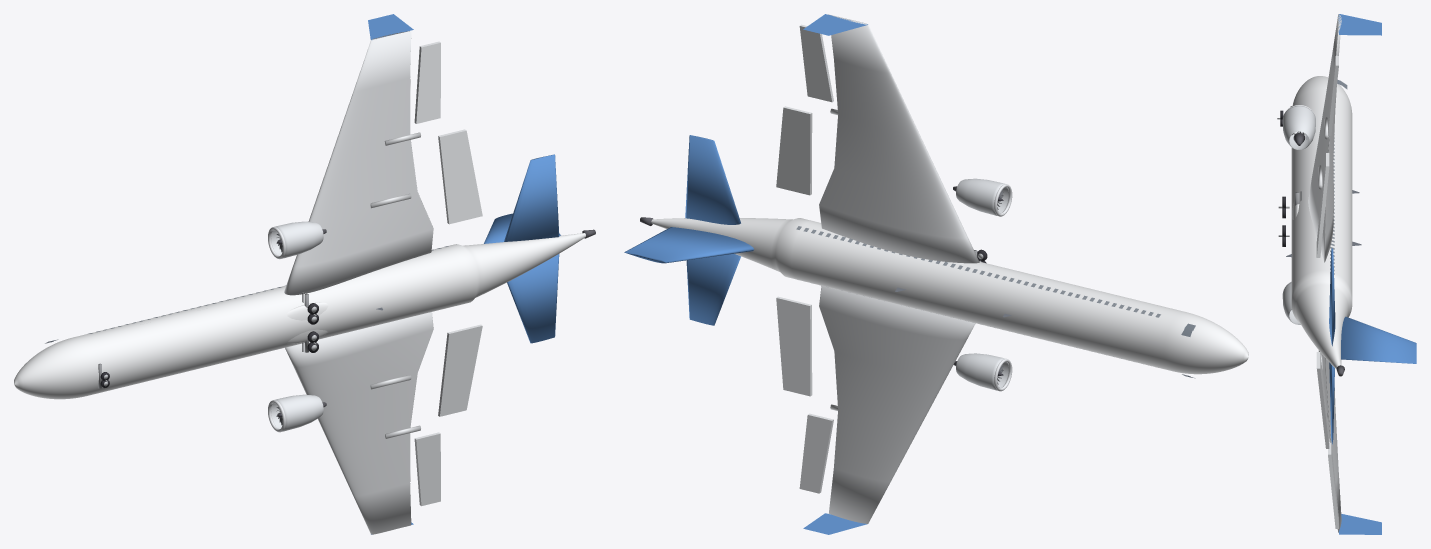
The picture shows the model from 3 angles, left to right: view 1: azimuth 30°, elevation 25°; view 2: azimuth 150°, elevation 25°; view 3: azimuth 270°, elevation 25°; orthographic projection.
Visible parts, largest first — view 1: Fuselage, Wing_R, Wing_L, HStab_R, HStab_L, Flap_R, Flap_L, Aileron_R, Aileron_L, Nacelle_1_0, Nacelle_-1_0, Sharklet_R; view 2: Fuselage, Wing_L, Wing_R, HStab_R, Flap_L, Fin, Flap_R, HStab_L, Aileron_L, Aileron_R, Nacelle_1_0, Nacelle_-1_0 (+3 smaller); view 3: Fuselage, Wing_R, Fin, Nacelle_1_0, Wing_L, Sharklet_R, Sharklet_L, Flap_R, Flap_L, HStab_R, Aileron_L, Aileron_R (+2 smaller).
Part boxes in pixels (x1,y1,x2,y2): Fuselage: (14, 233, 585, 399); Wing_R: (284, 31, 433, 295); Wing_L: (285, 312, 433, 534); HStab_R: (504, 154, 559, 241); HStab_L: (507, 254, 559, 343); Flap_R: (438, 129, 482, 224); Flap_L: (438, 324, 482, 416); Aileron_R: (414, 41, 440, 123); Aileron_L: (414, 432, 440, 506); Nacelle_1_0: (271, 221, 323, 258); Nacelle_-1_0: (271, 394, 323, 431); Sharklet_R: (368, 14, 413, 39); Fuselage: (651, 218, 1248, 374); Wing_L: (819, 285, 975, 523); Wing_R: (819, 14, 979, 263); HStab_R: (685, 135, 740, 224); Flap_L: (776, 296, 812, 396); Fin: (624, 227, 754, 263); Flap_R: (776, 106, 812, 195); HStab_L: (686, 254, 740, 325); Aileron_L: (799, 413, 833, 493); Aileron_R: (799, 24, 833, 102); Nacelle_1_0: (956, 178, 1008, 215); Nacelle_-1_0: (956, 353, 1008, 390); Fuselage: (1291, 76, 1352, 368); Wing_R: (1308, 14, 1341, 262); Fin: (1341, 316, 1416, 363); Nacelle_1_0: (1282, 105, 1315, 149); Wing_L: (1322, 354, 1341, 532); Sharklet_R: (1338, 14, 1381, 35); Sharklet_L: (1338, 514, 1381, 534); Flap_R: (1316, 153, 1329, 257); Flap_L: (1316, 352, 1329, 448); HStab_R: (1329, 248, 1335, 346); Aileron_L: (1328, 442, 1338, 528); Aileron_R: (1328, 56, 1338, 135).
Bounding box in the file's own units: 44.81 × 35.8 × 9.07.
